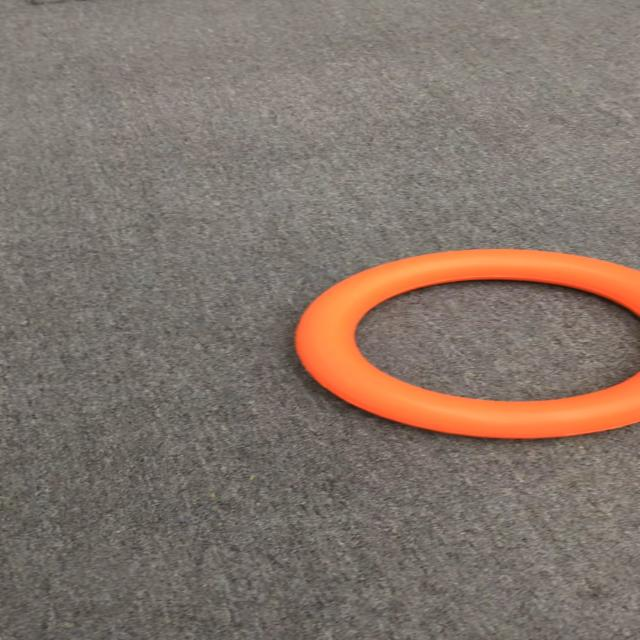note: (293, 257, 640, 436)
